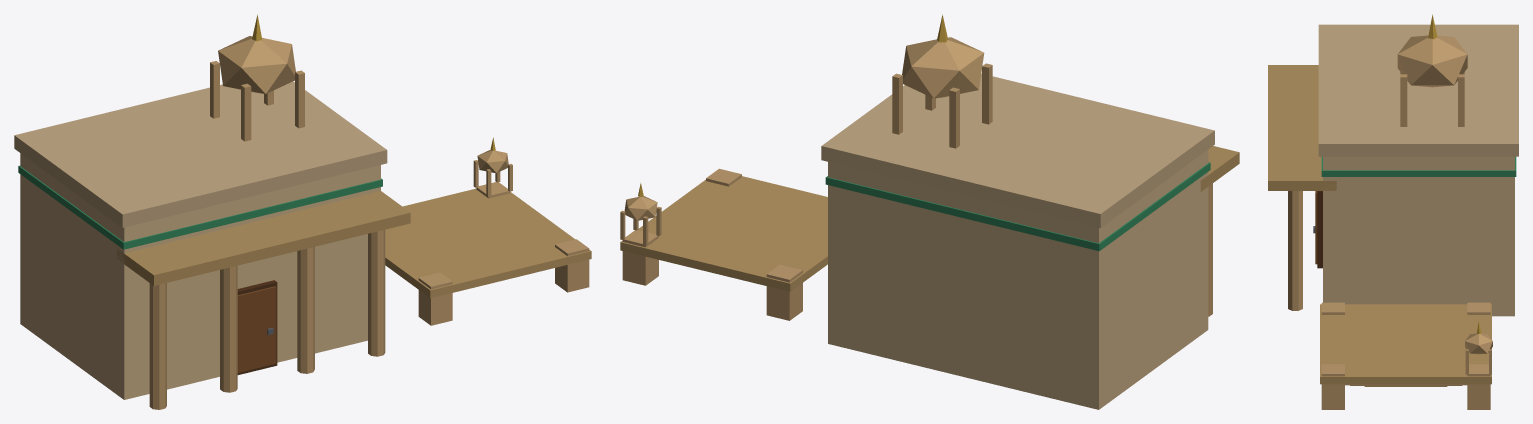
The model's file is cat_hall_broken.glb.
3 renders of one model, left to right at view 1: azimuth 30°, elevation 25°; view 2: azimuth 150°, elevation 25°; view 3: azimuth 270°, elevation 25°, orthographic. The views are drawn at different scales.
Parts seen in each view (by area): view 1: cat_hall_piece5, cat_hall_piece4, cat_hall_piece3, cat_hall_piece1, cat_hall_piece9, cat_hall_piece11, cat_hall_piece7, cat_hall_piece12, cat_hall_piece10, cat_hall_piece0, cat_hall_piece6, cat_hall_piece8 (+1 smaller); view 2: cat_hall_piece2, cat_hall_piece3, cat_hall_piece7, cat_hall_piece10, cat_hall_piece11, cat_hall_piece4, cat_hall_piece0, cat_hall_piece12, cat_hall_piece9, cat_hall_piece1, cat_hall_piece6, cat_hall_piece8; view 3: cat_hall_piece1, cat_hall_piece0, cat_hall_piece11, cat_hall_piece13, cat_hall_piece5, cat_hall_piece4, cat_hall_piece9, cat_hall_piece12, cat_hall_piece10, cat_hall_piece7, cat_hall_piece6, cat_hall_piece8.
Boxes of the visible parts, bbox=[...] form: cat_hall_piece5: bbox=[144, 202, 366, 392]; cat_hall_piece4: bbox=[60, 154, 254, 390]; cat_hall_piece3: bbox=[20, 151, 174, 409]; cat_hall_piece1: bbox=[312, 103, 528, 356]; cat_hall_piece9: bbox=[177, 55, 352, 225]; cat_hall_piece11: bbox=[402, 137, 591, 292]; cat_hall_piece7: bbox=[14, 115, 249, 202]; cat_hall_piece12: bbox=[218, 14, 317, 157]; cat_hall_piece10: bbox=[98, 61, 292, 140]; cat_hall_piece0: bbox=[289, 81, 446, 266]; cat_hall_piece6: bbox=[199, 62, 288, 135]; cat_hall_piece8: bbox=[189, 117, 263, 370]; cat_hall_piece2: bbox=[828, 179, 1061, 400]; cat_hall_piece3: bbox=[1051, 176, 1212, 409]; cat_hall_piece7: bbox=[1013, 111, 1123, 354]; cat_hall_piece10: bbox=[822, 89, 1026, 246]; cat_hall_piece11: bbox=[620, 168, 786, 285]; cat_hall_piece4: bbox=[1071, 113, 1231, 264]; cat_hall_piece0: bbox=[742, 112, 889, 340]; cat_hall_piece12: bbox=[852, 14, 1024, 131]; cat_hall_piece9: bbox=[903, 37, 1155, 116]; cat_hall_piece1: bbox=[763, 85, 924, 234]; cat_hall_piece6: bbox=[860, 78, 1003, 142]; cat_hall_piece8: bbox=[961, 101, 1024, 143]; cat_hall_piece1: bbox=[1268, 128, 1437, 347]; cat_hall_piece0: bbox=[1380, 137, 1518, 334]; cat_hall_piece11: bbox=[1320, 322, 1492, 409]; cat_hall_piece13: bbox=[1336, 197, 1514, 316]; cat_hall_piece5: bbox=[1268, 65, 1322, 268]; cat_hall_piece4: bbox=[1285, 24, 1461, 95]; cat_hall_piece9: bbox=[1316, 49, 1412, 165]; cat_hall_piece12: bbox=[1367, 14, 1478, 140]; cat_hall_piece10: bbox=[1434, 62, 1518, 169]; cat_hall_piece7: bbox=[1351, 24, 1518, 93]; cat_hall_piece6: bbox=[1411, 64, 1476, 137]; cat_hall_piece8: bbox=[1369, 85, 1432, 110].
Bounding box in the file's own units: 5.32 × 3.19 × 2.65.
